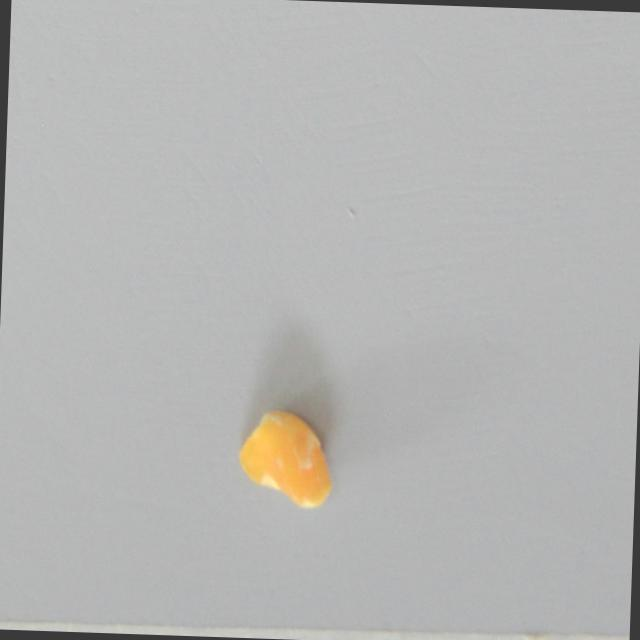pelicula: (235, 403, 338, 510)
